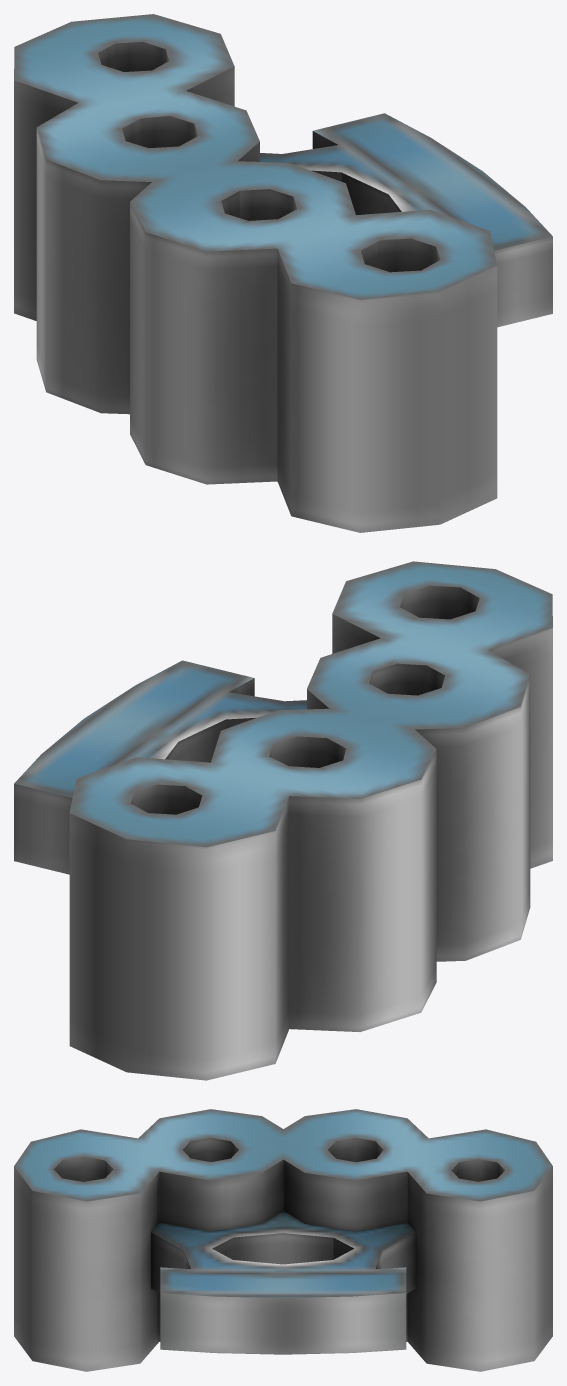
File: claw010.fbx
3 renders of one model, top to bottom at view 1: azimuth 30°, elevation 25°; view 2: azimuth 150°, elevation 25°; view 3: azimuth 270°, elevation 25°, orthographic. The views are drawn at different scales.
Visible parts, largest first — view 1: claw010; view 2: claw010; view 3: claw010.
Boxes of the visible parts, x1,y1,x2,y2 form: claw010: (14, 14, 552, 532); claw010: (14, 561, 552, 1080); claw010: (14, 1109, 552, 1371).
Size of the model in its own units: 0.0697 by 0.0401 by 0.1151.
